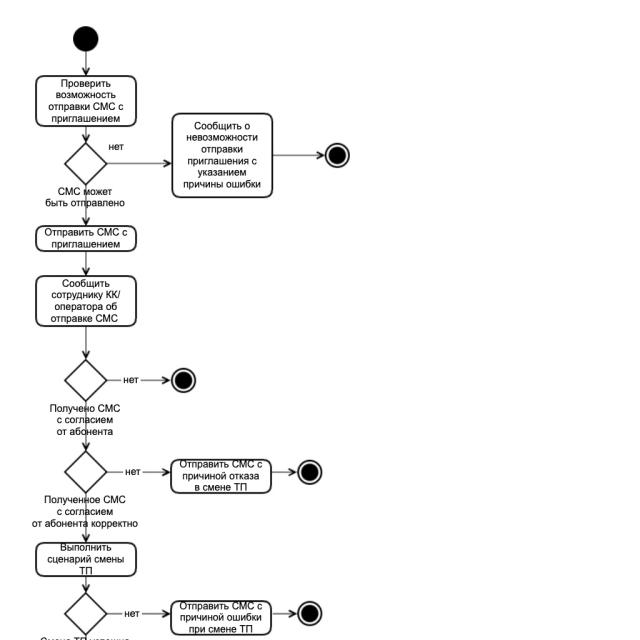arrow: (107, 374, 170, 387), (108, 465, 171, 478), (107, 607, 170, 620), (107, 157, 172, 169), (273, 149, 325, 161), (80, 401, 92, 451), (80, 493, 92, 542), (81, 184, 91, 225), (80, 327, 92, 360), (272, 607, 297, 620), (272, 466, 297, 478), (81, 51, 92, 76), (80, 252, 91, 276), (81, 126, 92, 143), (80, 578, 92, 593)
circle: (294, 598, 324, 629), (170, 368, 196, 393), (297, 460, 322, 484), (74, 27, 98, 51), (325, 144, 349, 168)
diamond: (63, 450, 108, 494), (64, 142, 108, 186), (64, 592, 108, 636), (64, 359, 107, 402)
rectangle: (172, 113, 273, 197), (36, 75, 136, 127), (35, 275, 136, 326), (170, 600, 272, 635), (35, 542, 136, 577), (171, 459, 271, 494), (36, 225, 136, 252)
text_region: (31, 494, 138, 530), (49, 403, 121, 436), (45, 186, 126, 208), (123, 609, 141, 619), (125, 468, 142, 477), (123, 376, 140, 385), (108, 143, 125, 152)
